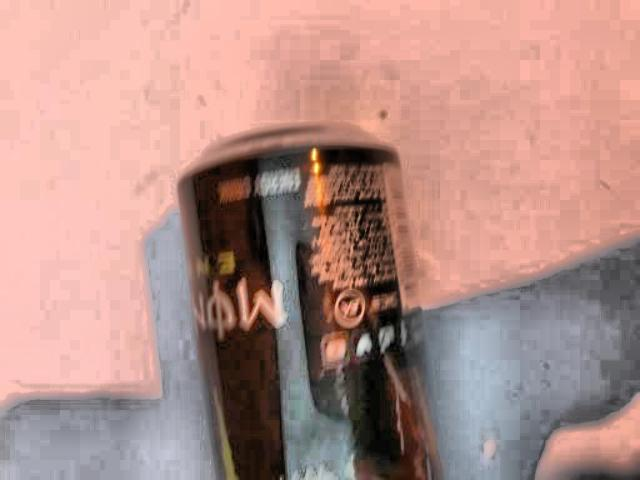Bottles: (134, 105, 468, 480)
